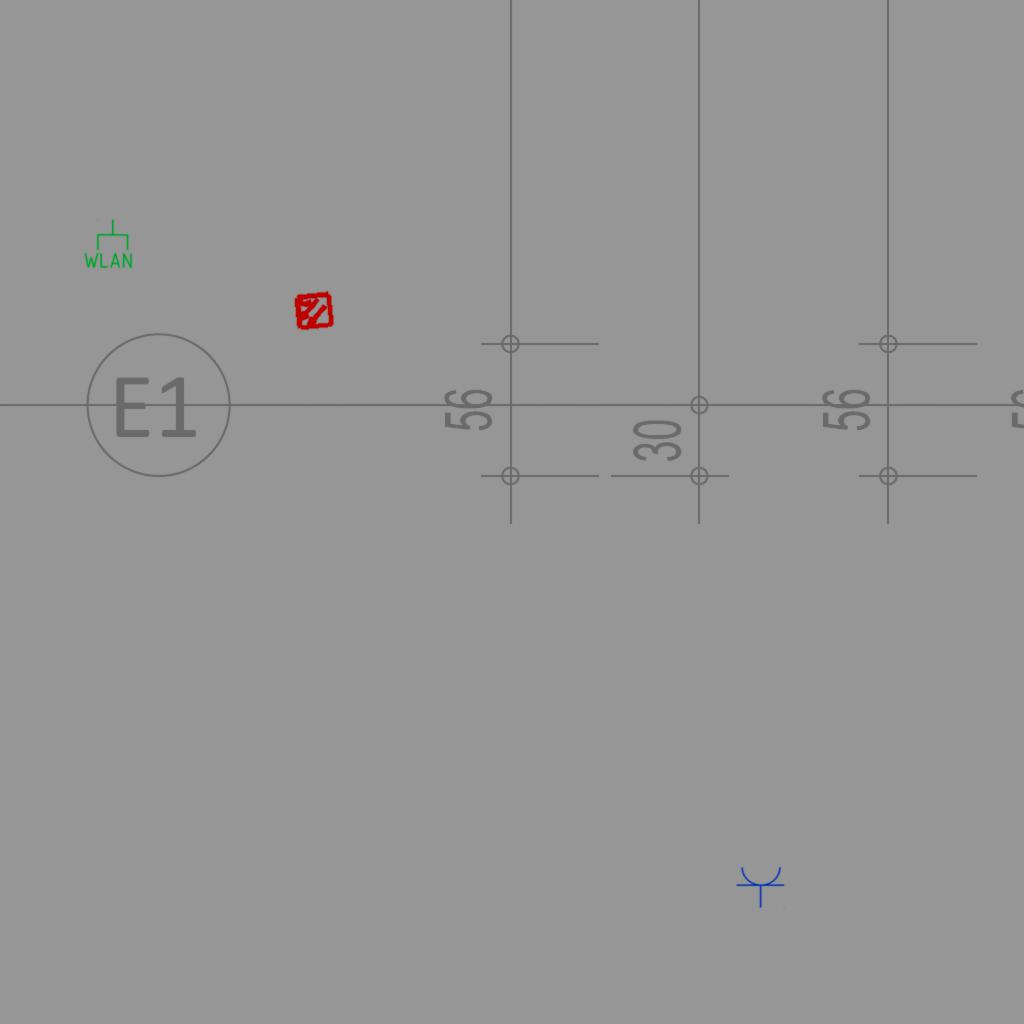OT_Multisensormelder_(Kombination_RMO_WMD): (282, 280, 344, 342)
Schukosteckdose_einfach: (736, 865, 786, 908)
WLAN: (82, 218, 134, 270)
